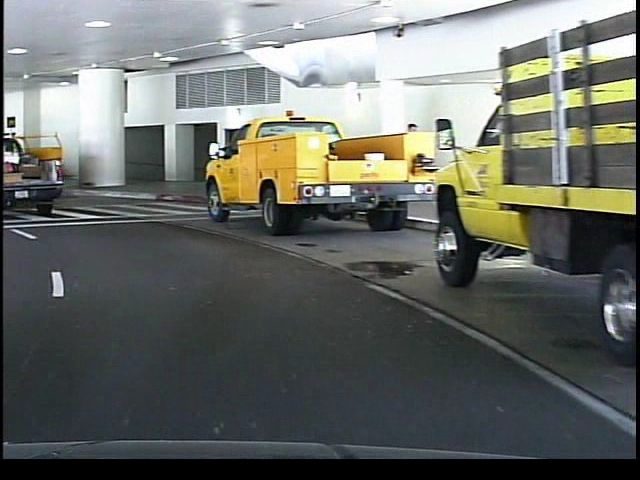person: (396, 118, 426, 208)
